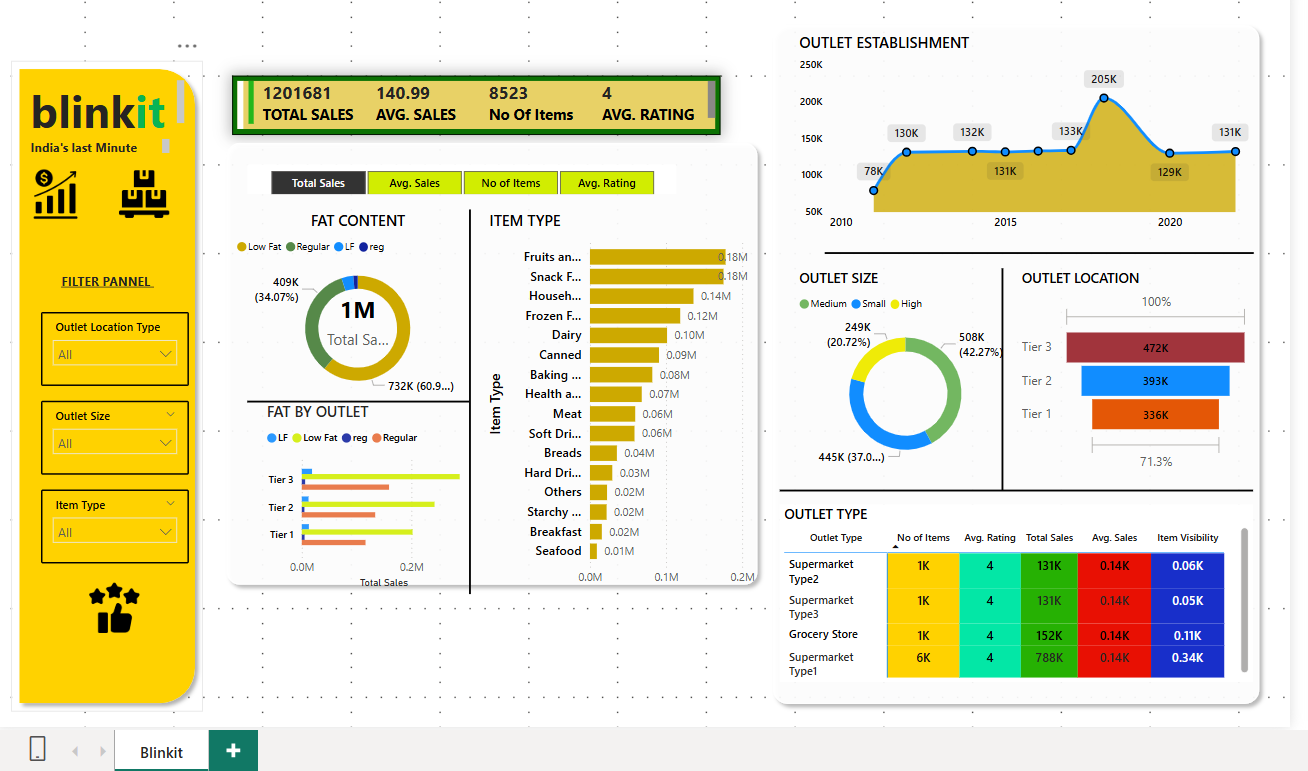

Layout of this report page (visuals, bound fields, positions):
{"tool":"powerbi","page":{"name":"Blinkit","canvas":[1400,800],"ordinal":0},"visuals":[{"type":"shape","box":[16,80,208,704],"z":0},{"type":"textbox","box":[32,96,176,64],"z":1000},{"type":"textbox","box":[32,160,160,32],"z":2000},{"type":"multiRowCard","fields":{"Values":["BlinkIT Grocery Data.Total Sales","BlinkIT Grocery Data.Avg. Sales","BlinkIT Grocery Data.No of Items","BlinkIT Grocery Data.Avg. Rating"]},"box":[256,96,528,64],"z":3000},{"type":"shape","box":[240,160,592,496],"z":4000},{"type":"donutChart","title":"FAT CONTENT","fields":{"Y":["BlinkIT Grocery Data.Total Sales"],"Category":["BlinkIT Grocery Data.Item Fat Content"]},"box":[256,240,272,208],"z":5000},{"type":"slicer","fields":{"Values":["Metrices.Metrices"]},"box":[272,192,464,32],"z":6000},{"type":"card","fields":{"Values":["BlinkIT Grocery Data.Total Sales"]},"box":[352,320,80,80],"z":7000},{"type":"clusteredBarChart","title":"FAT BY OUTLET","fields":{"Y":["BlinkIT Grocery Data.Total Sales"],"Category":["BlinkIT Grocery Data.Outlet Location Type"],"Series":["BlinkIT Grocery Data.Item Fat Content"]},"box":[288,448,240,208],"z":8000},{"type":"shape","box":[272,416,240,64],"z":9000},{"type":"shape","box":[432,240,160,416],"z":10000},{"type":"barChart","title":"ITEM TYPE","fields":{"Category":["BlinkIT Grocery Data.Item Type"],"Y":["BlinkIT Grocery Data.Total Sales"]},"box":[528,240,304,416],"z":11000},{"type":"shape","box":[832,32,544,752],"z":12000},{"type":"lineChart","title":"OUTLET ESTABLISHMENT","fields":{"Category":["BlinkIT Grocery Data.Outlet Establishment Year"],"Y":["Sum(BlinkIT Grocery Data.Sales)"]},"box":[864,48,496,224],"z":13000},{"type":"shape","box":[896,272,464,32],"z":14000},{"type":"donutChart","title":"OUTLET SIZE","fields":{"Y":["BlinkIT Grocery Data.Total Sales"],"Category":["BlinkIT Grocery Data.Outlet Size"]},"box":[864,304,240,224],"z":15000},{"type":"shape","box":[1008,304,160,240],"z":16000},{"type":"funnel","title":"OUTLET LOCATION","fields":{"Y":["Sum(BlinkIT Grocery Data.Sales)"],"Category":["BlinkIT Grocery Data.Outlet Location Type"]},"box":[1104,304,256,224],"z":17000},{"type":"shape","box":[848,528,512,32],"z":18000},{"type":"pivotTable","title":"OUTLET TYPE","fields":{"Values":["BlinkIT Grocery Data.No of Items","BlinkIT Grocery Data.Avg. Rating","BlinkIT Grocery Data.Total Sales","BlinkIT Grocery Data.Avg. Sales","Sum(BlinkIT Grocery Data.Item Visibility)"],"Rows":["BlinkIT Grocery Data.Outlet Type"]},"box":[848,560,512,192],"z":19000},{"type":"slicer","fields":{"Values":["BlinkIT Grocery Data.Outlet Location Type"]},"box":[48,352,160,80],"z":20000},{"type":"slicer","fields":{"Values":["BlinkIT Grocery Data.Outlet Size"]},"box":[48,448,160,80],"z":21000},{"type":"slicer","fields":{"Values":["BlinkIT Grocery Data.Item Type"]},"box":[48,544,160,80],"z":22000},{"type":"textbox","box":[48,304,144,32],"z":23000},{"type":"image","box":[32,192,64,64],"z":23001},{"type":"image","box":[112,192,96,64],"z":23002},{"type":"image","box":[96,640,64,64],"z":23003}]}

Visuals, with their boxes on the page's 1400x800 design canvas (x1, y1, x2, y2). These are canvas units, not pixel positions in the 1308x771 screenshot, which may show the page scaled, cropped or inside an application window:
shape: (16, 80, 224, 784)
textbox: (32, 96, 208, 160)
textbox: (32, 160, 192, 192)
multiRowCard - BlinkIT Grocery Data.Total Sales x BlinkIT Grocery Data.Avg. Sales: (256, 96, 784, 160)
shape: (240, 160, 832, 656)
"FAT CONTENT" donutChart: (256, 240, 528, 448)
slicer - Metrices.Metrices: (272, 192, 736, 224)
card - BlinkIT Grocery Data.Total Sales: (352, 320, 432, 400)
"FAT BY OUTLET" clusteredBarChart: (288, 448, 528, 656)
shape: (272, 416, 512, 480)
shape: (432, 240, 592, 656)
"ITEM TYPE" barChart: (528, 240, 832, 656)
shape: (832, 32, 1376, 784)
"OUTLET ESTABLISHMENT" lineChart: (864, 48, 1360, 272)
shape: (896, 272, 1360, 304)
"OUTLET SIZE" donutChart: (864, 304, 1104, 528)
shape: (1008, 304, 1168, 544)
"OUTLET LOCATION" funnel: (1104, 304, 1360, 528)
shape: (848, 528, 1360, 560)
"OUTLET TYPE" pivotTable: (848, 560, 1360, 752)
slicer - BlinkIT Grocery Data.Outlet Location Type: (48, 352, 208, 432)
slicer - BlinkIT Grocery Data.Outlet Size: (48, 448, 208, 528)
slicer - BlinkIT Grocery Data.Item Type: (48, 544, 208, 624)
textbox: (48, 304, 192, 336)
image: (32, 192, 96, 256)
image: (112, 192, 208, 256)
image: (96, 640, 160, 704)
